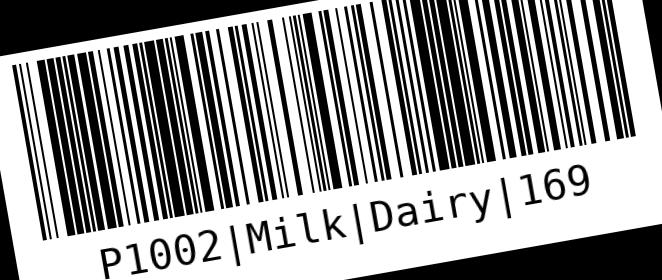milk: (5, 0, 661, 279)
